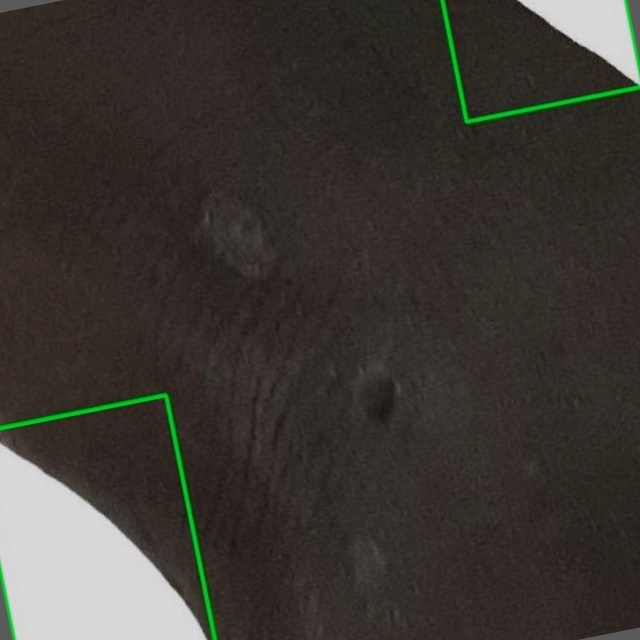Eczema: (0, 395, 214, 639)
